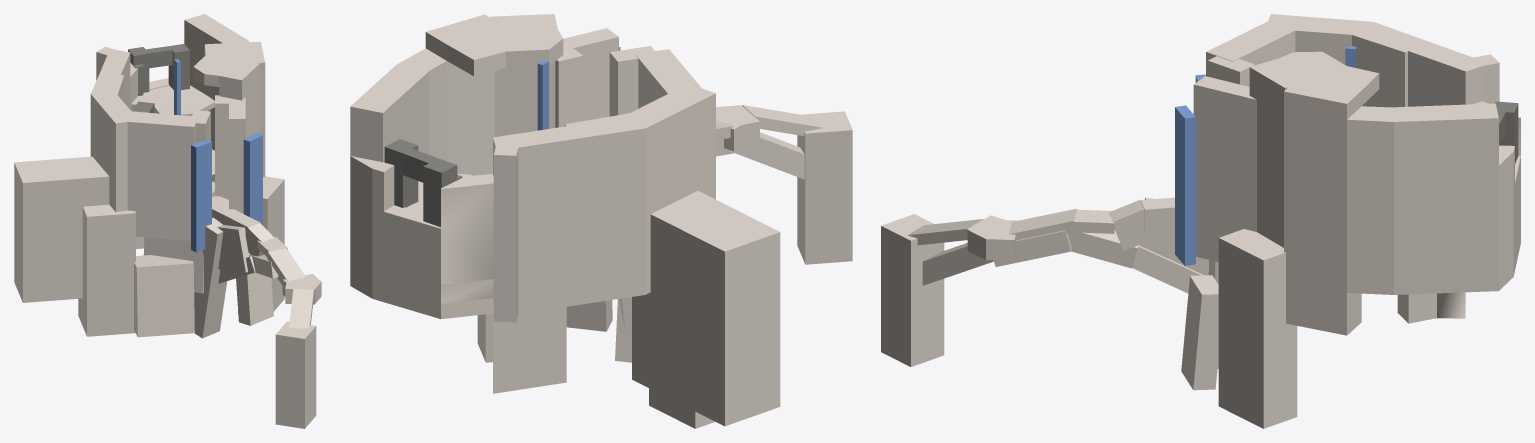
Rendered from Peak_Moist1.fbx.
3 views of the same model, side by side, from view 1: azimuth 30°, elevation 25°; view 2: azimuth 150°, elevation 25°; view 3: azimuth 270°, elevation 25° (orthographic). The views are drawn at different scales.
Visible parts, largest first — view 1: Bulk, Main, Bridge, Waterfalls, Cube.003, Entryway, NextEntry; view 2: Main, Bulk, Bridge, Cube.003, Entryway; view 3: Main, Bridge, Bulk, Cube.003, Waterfalls, Entryway.
Part boxes in pixels (left/top/right/bottom): Bulk: left=14, top=156, right=284, bottom=338; Main: left=90, top=14, right=265, bottom=249; Bridge: left=212, top=198, right=321, bottom=428; Waterfalls: left=191, top=133, right=262, bottom=252; Cube.003: left=192, top=95, right=245, bottom=213; Entryway: left=128, top=44, right=189, bottom=95; NextEntry: left=131, top=85, right=214, bottom=116; Main: left=350, top=14, right=715, bottom=393; Bulk: left=477, top=191, right=780, bottom=428; Bridge: left=716, top=105, right=852, bottom=264; Cube.003: left=555, top=28, right=654, bottom=127; Entryway: left=384, top=139, right=462, bottom=227; Main: left=1206, top=14, right=1520, bottom=335; Bridge: left=881, top=197, right=1208, bottom=366; Bulk: left=1181, top=229, right=1297, bottom=428; Cube.003: left=1193, top=56, right=1256, bottom=261; Waterfalls: left=1175, top=74, right=1205, bottom=265; Entryway: left=1495, top=101, right=1518, bottom=163.
Size of the model in its own units: 3409 by 5506 by 3150.
